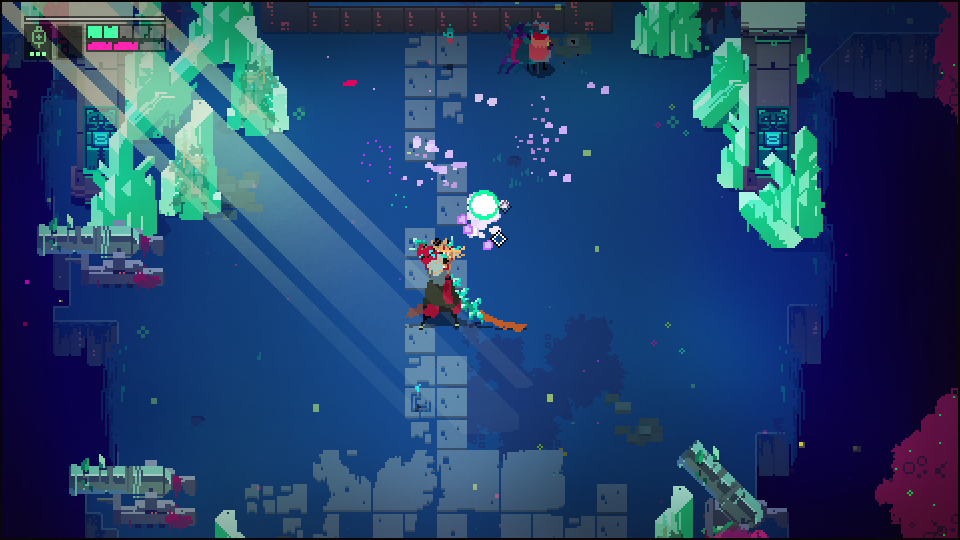hanged_man: (404, 230, 484, 332)
hanged_shot: (467, 189, 500, 223)
player: (523, 19, 557, 79)
